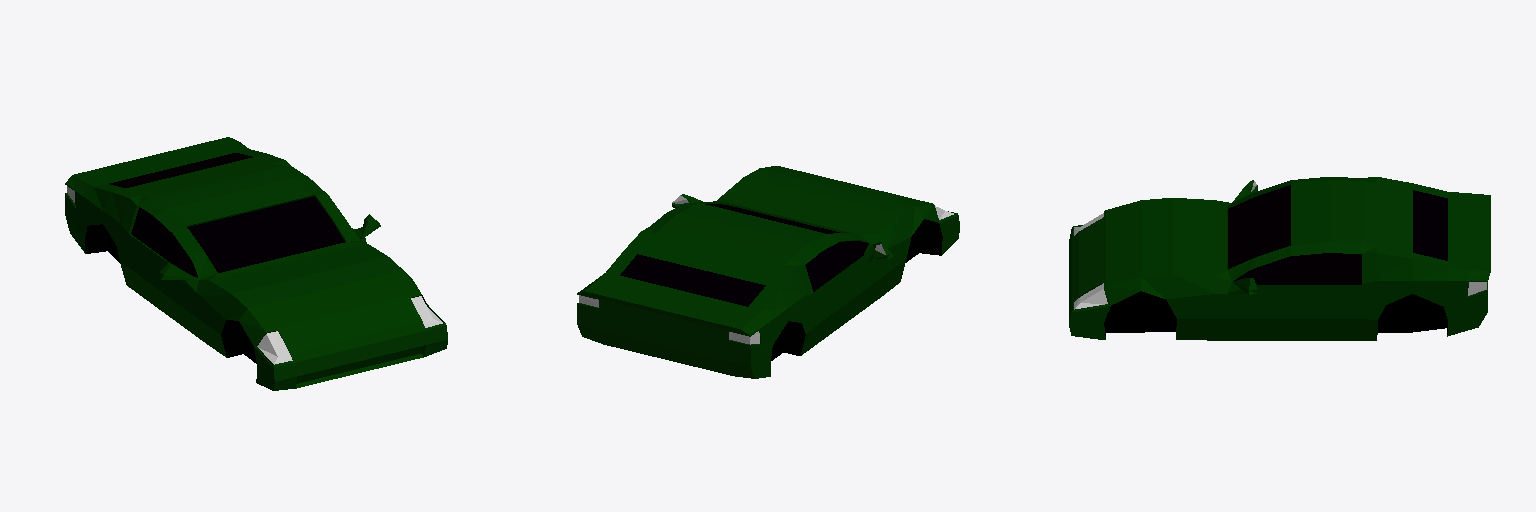
File: NaveV.obj
3 views of the same model, side by side, from view 1: azimuth 30°, elevation 25°; view 2: azimuth 150°, elevation 25°; view 3: azimuth 270°, elevation 25° (orthographic).
Parts seen in each view (by area): view 1: Cube; view 2: Cube; view 3: Cube.
Boxes of the visible parts, x1,y1,x2,y2 form: Cube: [65, 137, 447, 390]; Cube: [577, 166, 959, 378]; Cube: [1069, 177, 1490, 340].
Size of the model in its own units: 2.52 by 0.9889 by 4.18.